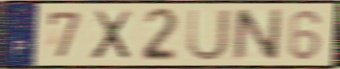2: (141, 6, 180, 65)
6: (287, 7, 323, 62)
7: (46, 10, 83, 60)
N: (231, 6, 284, 63)
U: (186, 7, 233, 63)
X: (89, 8, 135, 62)
